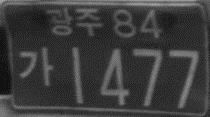1: (69, 45, 86, 106)
4: (98, 47, 129, 105), (138, 9, 163, 39)
7: (166, 48, 201, 110), (131, 47, 163, 109)
8: (112, 7, 135, 40)
가: (17, 45, 55, 88)
광주_O: (45, 6, 102, 37)
